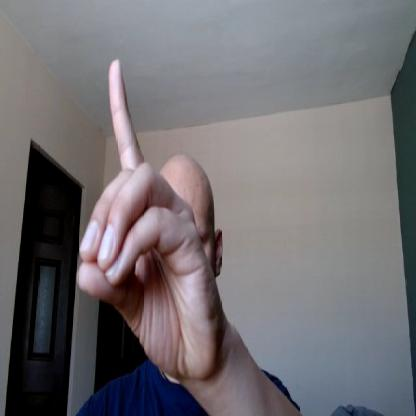D: (77, 61, 220, 377)
